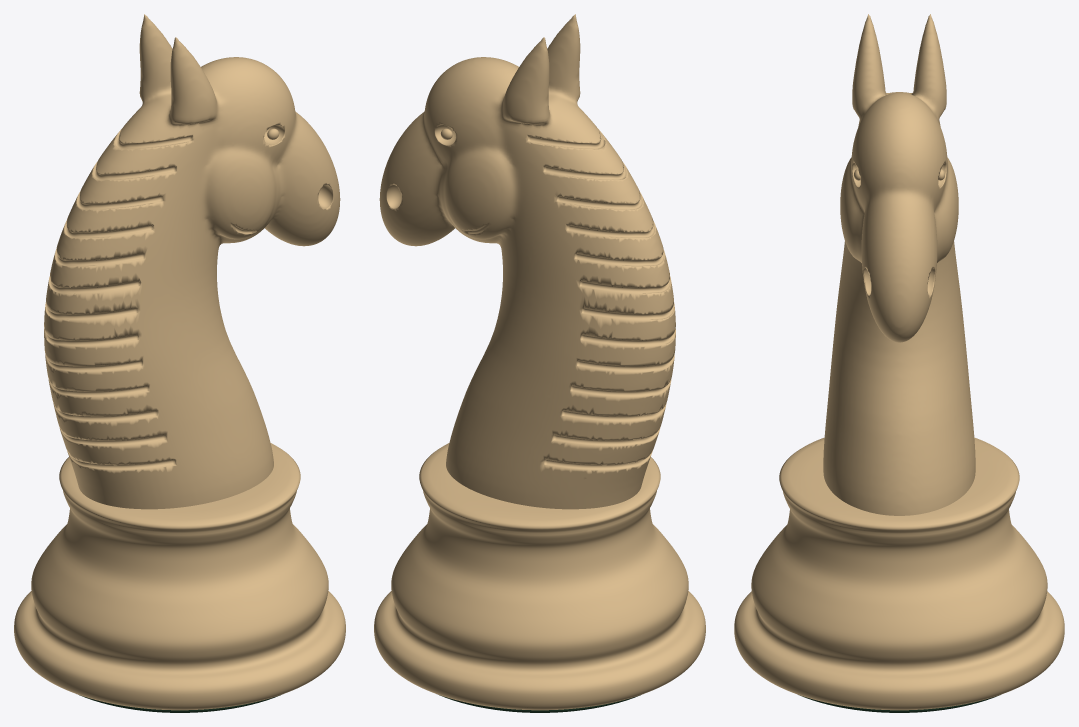
File: knight.glb
The picture shows the model from 3 angles, left to right: view 1: azimuth 30°, elevation 25°; view 2: azimuth 150°, elevation 25°; view 3: azimuth 270°, elevation 25°; orthographic projection.
Parts seen in each view (by area): view 1: Knight.001; view 2: Knight.001; view 3: Knight.001.
Part boxes in pixels (x1,y1,x2,y2): Knight.001: (14, 14, 345, 712); Knight.001: (374, 14, 705, 712); Knight.001: (734, 14, 1064, 712).
Bounding box in the file's own units: 0.0372 × 0.0749 × 0.0356.
